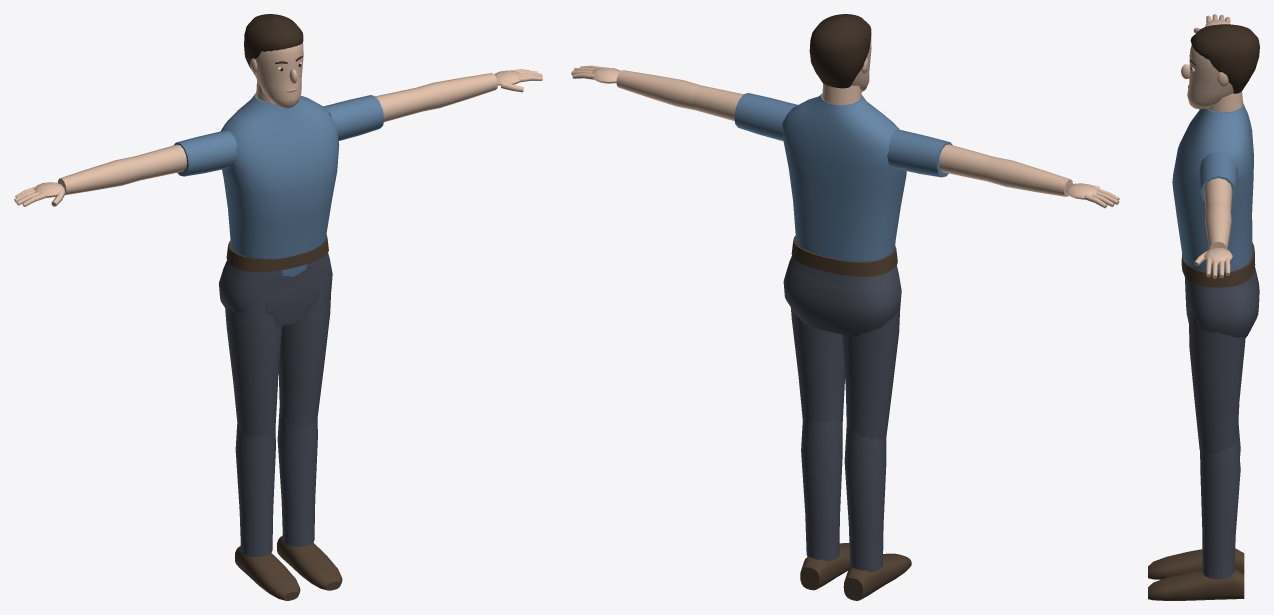
The model's file is robot.glb.
3 views of the same model, side by side, from view 1: azimuth 30°, elevation 25°; view 2: azimuth 150°, elevation 25°; view 3: azimuth 270°, elevation 25° (orthographic). The views are drawn at different scales.
Parts seen in each view (by area): view 1: Torso, Thigh_1, Thigh, Hips, Shin, Shin_1, Skull, Sleeve_1, Hair, Forearm_1, Shoe, Shoe_1 (+5 smaller); view 2: Torso, Hips, Thigh_1, Shin, Shin_1, Thigh, Hair, Sleeve_1, Forearm_1, Sleeve, Forearm, Belt (+4 smaller); view 3: Torso, Thigh, Shin, Hips, Hair, Shoe, Skull, Shoe_1, Sleeve, Belt, Forearm, Upper (+2 smaller).
Boxes of the visible parts, left/top/right/bottom form: Torso: left=221, top=92, right=339, bottom=276; Thigh_1: left=225, top=300, right=282, bottom=437; Thigh: left=278, top=281, right=331, bottom=426; Hips: left=219, top=253, right=332, bottom=326; Shin: left=277, top=407, right=317, bottom=546; Shin_1: left=235, top=424, right=275, bottom=556; Skull: left=254, top=43, right=303, bottom=108; Sleeve_1: left=173, top=130, right=237, bottom=176; Hair: left=244, top=14, right=303, bottom=74; Forearm_1: left=57, top=156, right=142, bottom=194; Shoe: left=277, top=535, right=342, bottom=590; Shoe_1: left=235, top=546, right=300, bottom=600; Torso: left=782, top=93, right=906, bottom=261; Hips: left=783, top=255, right=901, bottom=336; Thigh_1: left=841, top=308, right=900, bottom=440; Shin: left=801, top=420, right=842, bottom=561; Shin_1: left=844, top=424, right=886, bottom=572; Thigh: left=790, top=307, right=844, bottom=424; Hair: left=809, top=14, right=871, bottom=88; Sleeve_1: left=887, top=129, right=952, bottom=177; Forearm_1: left=984, top=157, right=1072, bottom=196; Sleeve: left=734, top=93, right=797, bottom=141; Forearm: left=616, top=70, right=701, bottom=109; Belt: left=791, top=236, right=897, bottom=276; Torso: left=1172, top=103, right=1253, bottom=272; Thigh: left=1189, top=308, right=1245, bottom=455; Shin: left=1200, top=436, right=1240, bottom=579; Hips: left=1184, top=267, right=1259, bottom=337; Hair: left=1190, top=24, right=1259, bottom=93; Shoe: left=1148, top=569, right=1244, bottom=600; Skull: left=1187, top=45, right=1233, bottom=108; Shoe_1: left=1148, top=548, right=1244, bottom=579; Sleeve: left=1199, top=151, right=1237, bottom=202; Belt: left=1181, top=242, right=1255, bottom=287; Forearm: left=1205, top=201, right=1231, bottom=249; Upper: left=1204, top=178, right=1232, bottom=211.
Bounding box in the file's own units: 1.8 × 1.8 × 0.326.
